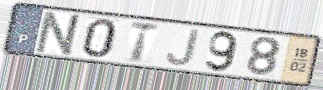0: (81, 17, 120, 60)
8: (244, 36, 282, 77)
9: (203, 30, 242, 74)
J: (164, 28, 202, 67)
N: (33, 10, 86, 58)
T: (128, 19, 162, 65)
